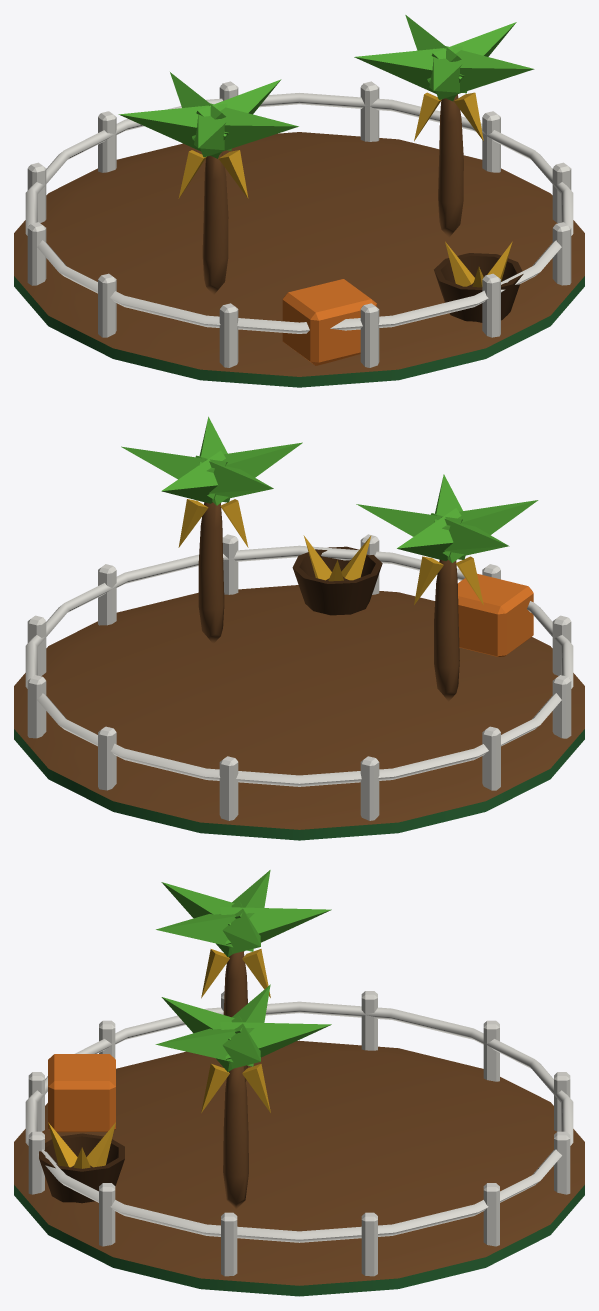
3 views of the same model, one above another, from view 1: azimuth 30°, elevation 25°; view 2: azimuth 150°, elevation 25°; view 3: azimuth 270°, elevation 25° (orthographic).
Parts seen in each view (by area): view 1: fazenda_0_base, fazenda_1_torreta; view 2: fazenda_0_base, fazenda_1_torreta; view 3: fazenda_0_base, fazenda_1_torreta.
Boxes of the visible parts, bbox=[...] form: fazenda_0_base: bbox=[14, 81, 584, 387]; fazenda_1_torreta: bbox=[118, 15, 534, 294]; fazenda_0_base: bbox=[14, 534, 584, 840]; fazenda_1_torreta: bbox=[121, 416, 538, 701]; fazenda_0_base: bbox=[14, 991, 584, 1296]; fazenda_1_torreta: bbox=[155, 870, 331, 1209].
Bounding box in the file's own units: 1.28 × 0.5151 × 1.26.
